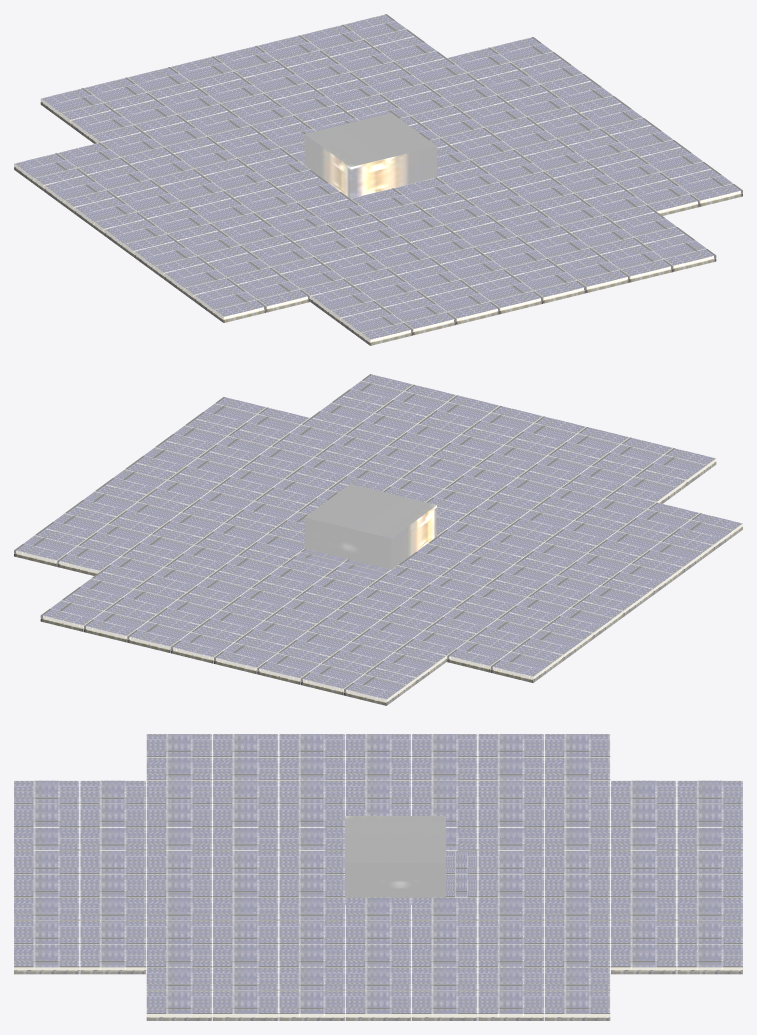
File: ast_science_sat.glb
The picture shows the model from 3 angles, top to bottom: view 1: azimuth 30°, elevation 25°; view 2: azimuth 150°, elevation 25°; view 3: azimuth 270°, elevation 25°; orthographic projection. The views are drawn at different scales.
Visible parts, largest first — view 1: Plane.130, Cube, Plane.001; view 2: Plane.130, Cube, Plane.001; view 3: Plane.130, Cube, Plane.001.
Boxes of the visible parts, bbox=[...] form: Plane.130: bbox=[14, 14, 742, 342]; Cube: bbox=[304, 113, 437, 198]; Plane.001: bbox=[14, 102, 742, 345]; Plane.130: bbox=[14, 374, 742, 702]; Cube: bbox=[304, 484, 436, 569]; Plane.001: bbox=[14, 462, 742, 705]; Plane.130: bbox=[14, 734, 742, 1017]; Cube: bbox=[345, 816, 445, 904]; Plane.001: bbox=[14, 970, 742, 1020].
Size of the model in its own units: 2.95e+13 by 2.07e+12 by 3.25e+13.
Materials: 3 (3 with a texture image).
